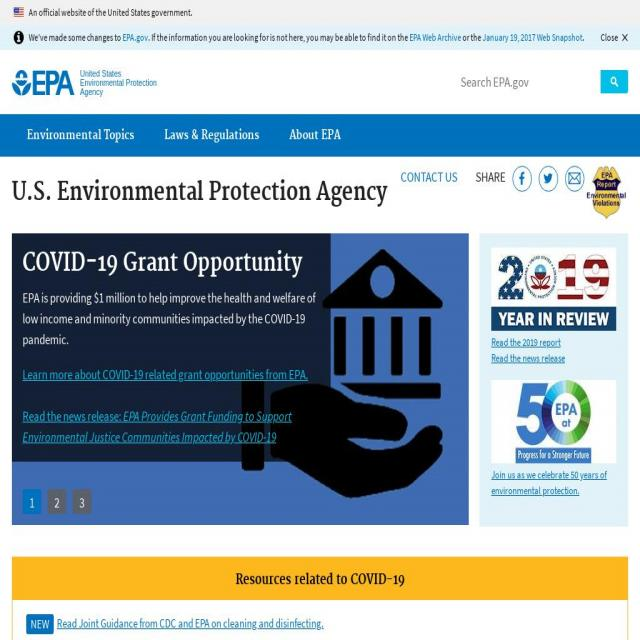follow-options: (508, 162, 585, 196)
navigation-links: (20, 113, 346, 154)
search: (596, 65, 632, 98)
